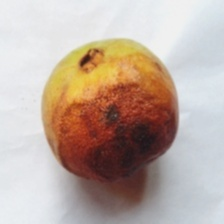guava: (24, 45, 191, 189)
